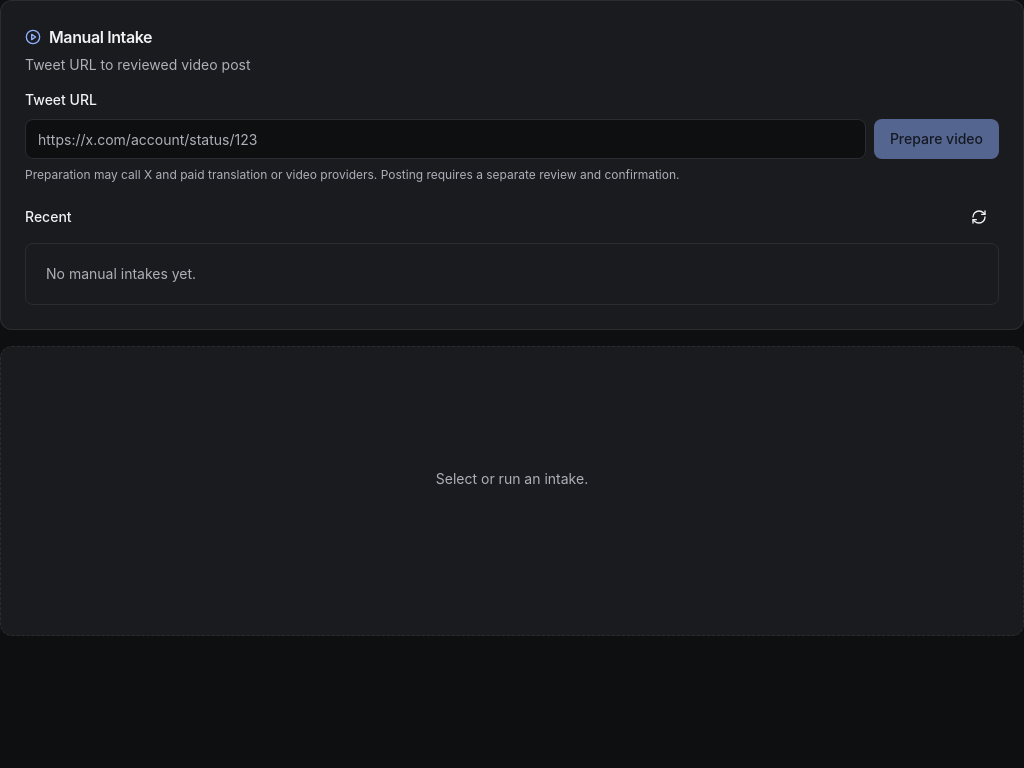
it: manual intake consequential actions › validates locally and confirms the exact source before paid preparation
The image size is (1024, 768).
Later steps or results of the test are not shown.
Type "https://example.com/status/1" into the field labelled "Tweet URL" at [445, 139], box [25, 119, 866, 159]
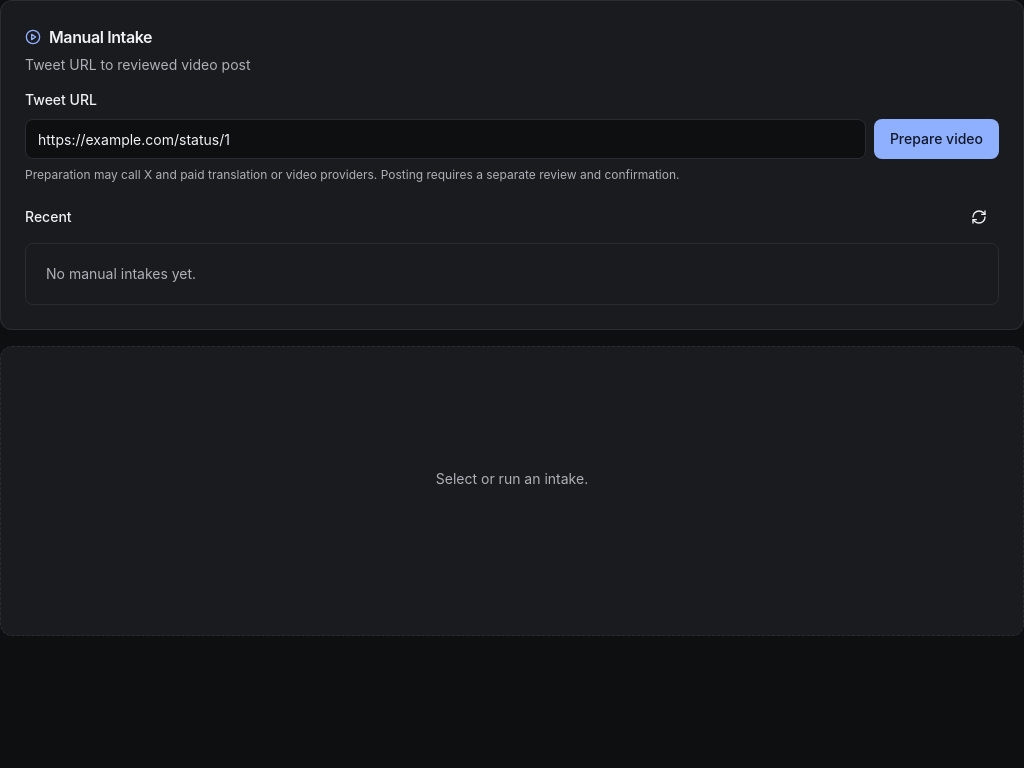
Submit the form labelled "Tweet URL", box [25, 87, 999, 183]
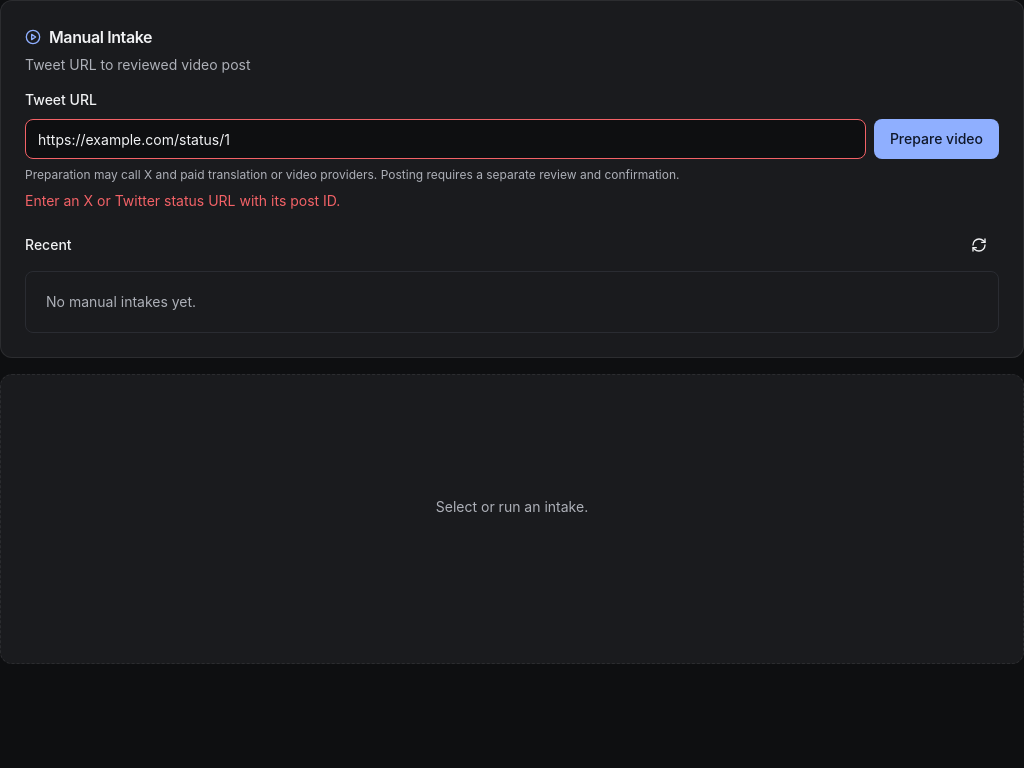
Replace the text in the field labelled "Tweet URL" with "https://x.com/example/status/12345" at [445, 139], box [25, 119, 866, 159]
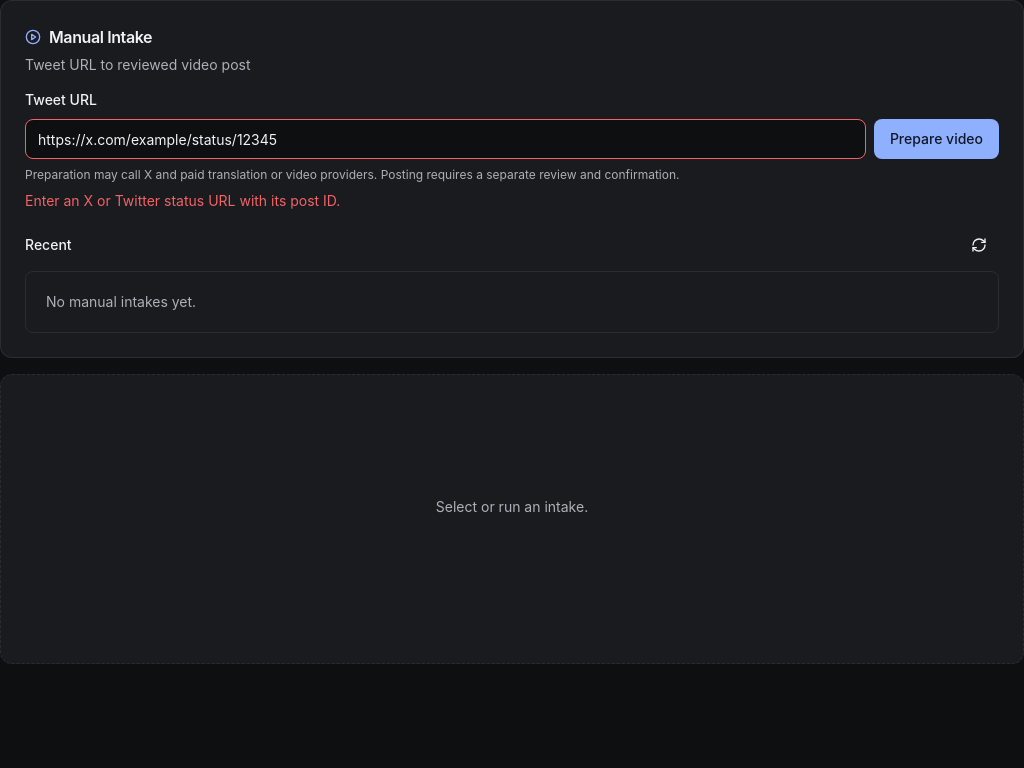
Submit the form labelled "Tweet URL", box [25, 87, 999, 211]
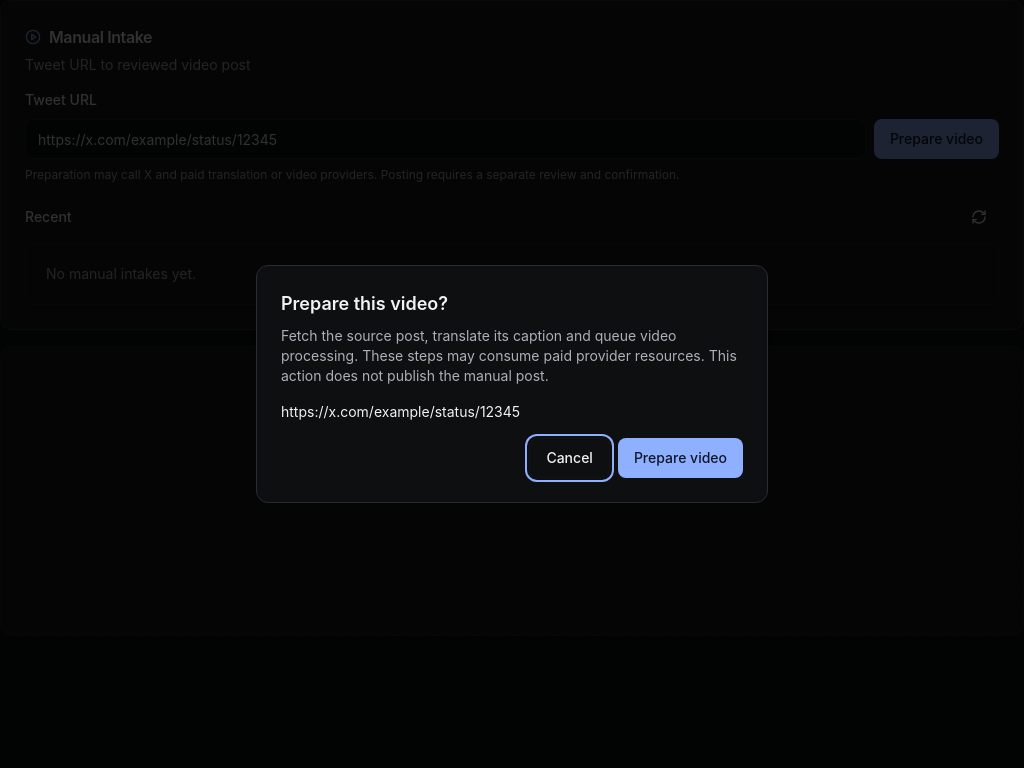
Result: the dialog shows "paid provider resources" at [281, 327, 737, 384]
Result: the dialog shows "https://x.com/example/status/12345" at [281, 403, 520, 420]
